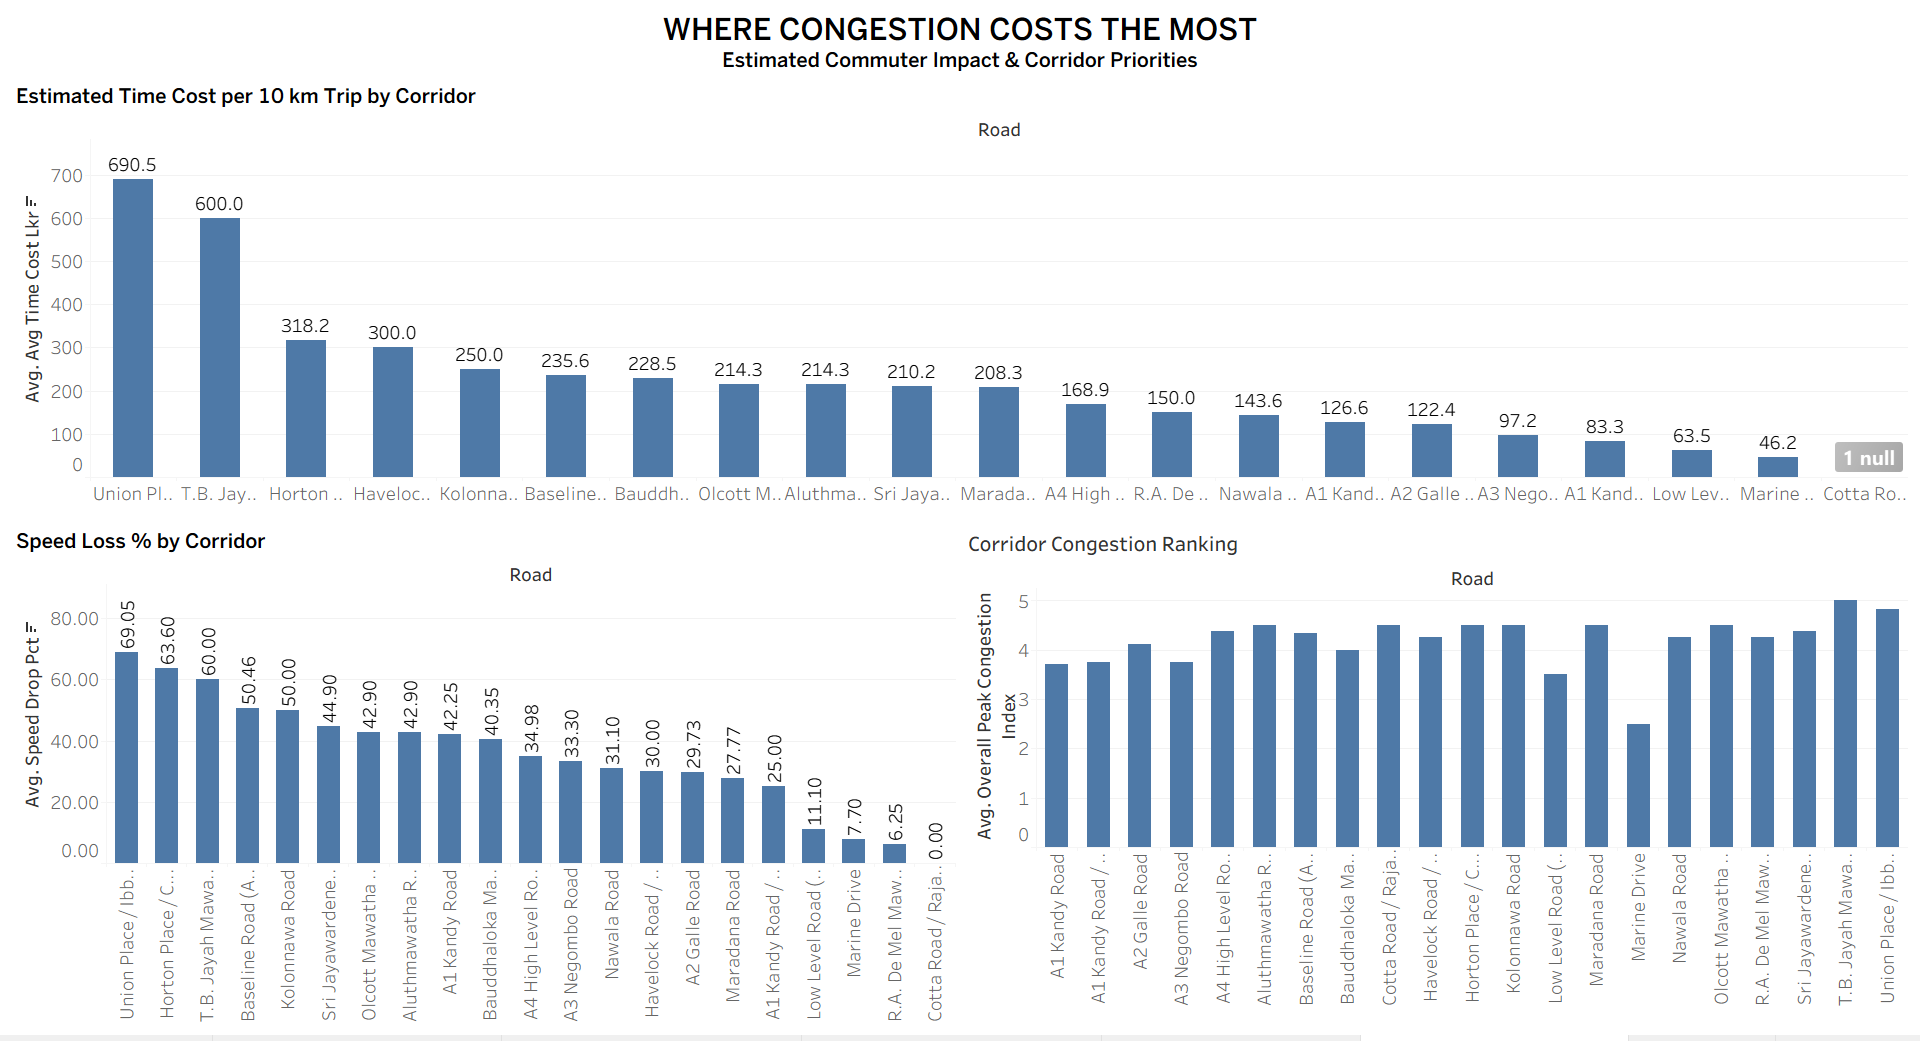

This screenshot's page, from the dashboard's own definition file:
{"tool":"tableau","page":{"name":"Congestion Cost & Priority","canvas":[1000,1000],"units":"permille","ordinal":2},"visuals":[{"type":"title","box":[5,9.8,990,83.1]},{"type":"worksheet","title":"Estimated Congestion Cost by Corridor","mark":"Automatic","rows":["road"],"cols":["avg_time_cost_lkr"],"box":[5,92.9,990,419.6]},{"type":"worksheet","title":"Speed Loss % by Corridor","mark":"Bar","rows":["road"],"cols":["speed_drop_pct"],"box":[5,512.5,495,477.7]},{"type":"worksheet","title":"Corridor Congestion Ranking","mark":"Automatic","rows":["road"],"cols":["overall_peak_congestion_index"],"box":[500,512.5,495,477.7]}]}

Visuals, with their boxes on the dashboard's canvas, which has no fixed pixel size, in thousandths of its width and height (x1, y1, x2, y2). These are canvas units, not pixel positions in the 1920x1041 screenshot, which may show the page scaled, cropped or inside an application window:
title: bbox=[5, 10, 995, 93]
"Estimated Congestion Cost by Corridor" worksheet: bbox=[5, 93, 995, 512]
"Speed Loss % by Corridor" worksheet (Bar marks): bbox=[5, 512, 500, 990]
"Corridor Congestion Ranking" worksheet: bbox=[500, 512, 995, 990]
